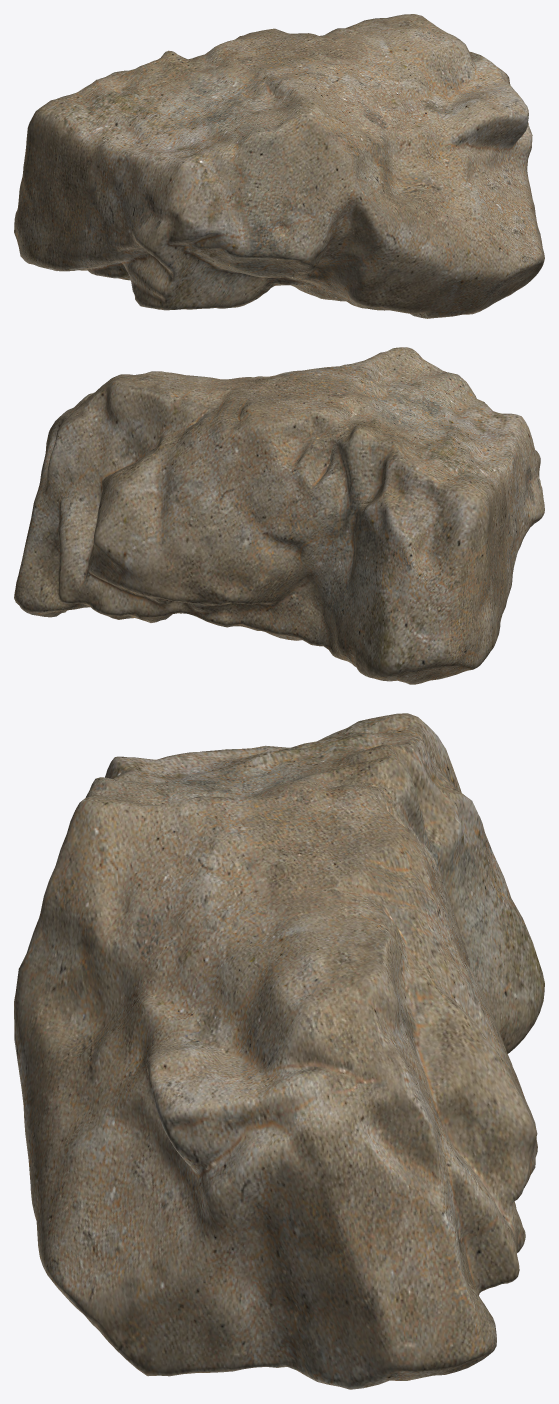
Rendered from rock.obj.
The picture shows the model from 3 angles, top to bottom: view 1: azimuth 30°, elevation 25°; view 2: azimuth 150°, elevation 25°; view 3: azimuth 270°, elevation 25°; orthographic projection. The views are drawn at different scales.
Parts seen in each view (by area): view 1: Rock_9; view 2: Rock_9; view 3: Rock_9.
Part boxes in pixels (x1=…): Rock_9: x1=14, y1=14, x2=544, y2=318; Rock_9: x1=14, y1=347, x2=544, y2=684; Rock_9: x1=14, y1=713, x2=544, y2=1389.
Bounding box in the file's own units: 7.11 × 3.76 × 4.43.
Materials: 1 (1 with a texture image).
